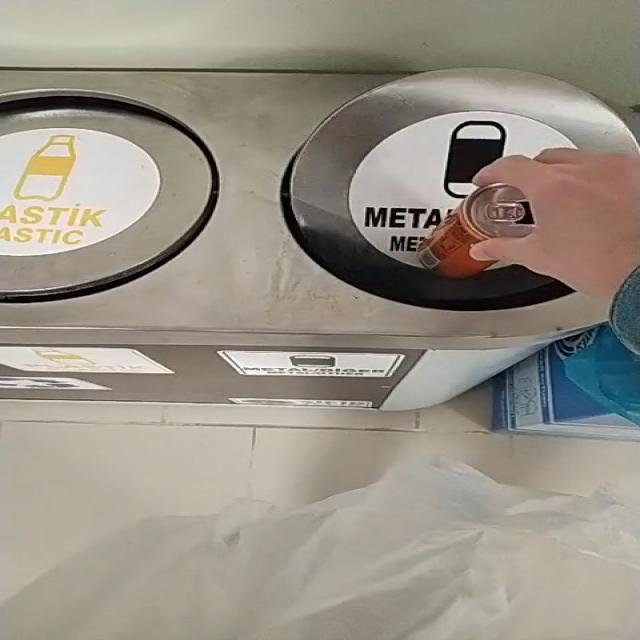Bin: (0, 70, 583, 410)
Metal: (419, 184, 535, 278)
